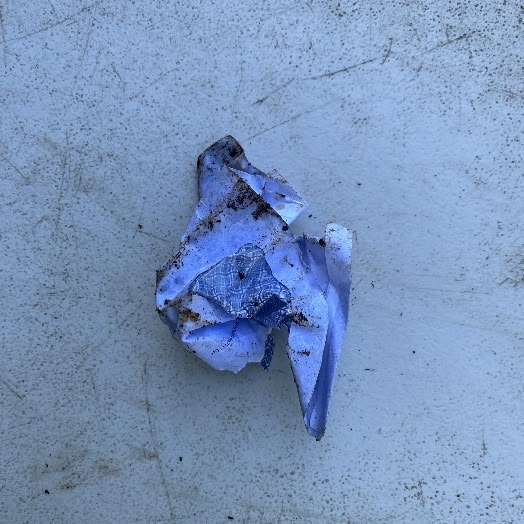paper: (155, 133, 354, 443)
